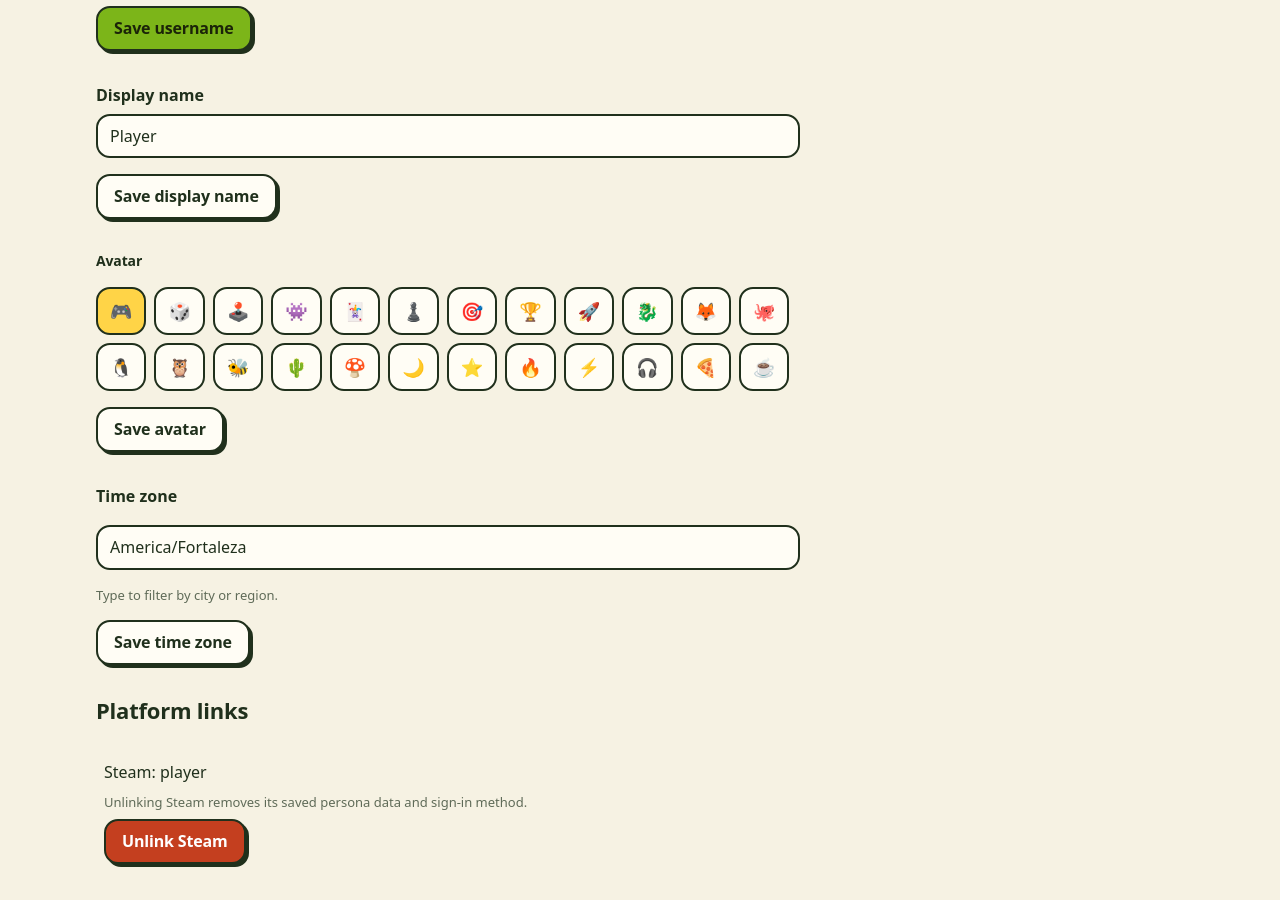
Scenario: ProfileSettingsPage › retries a Steam platform revoke with A-049 proof and renders the last-method API error_D137
The image size is (1280, 900).
(page scrolled)
Click the button "Unlink Steam": (175, 842) x1=104 y1=819 x2=246 y2=864
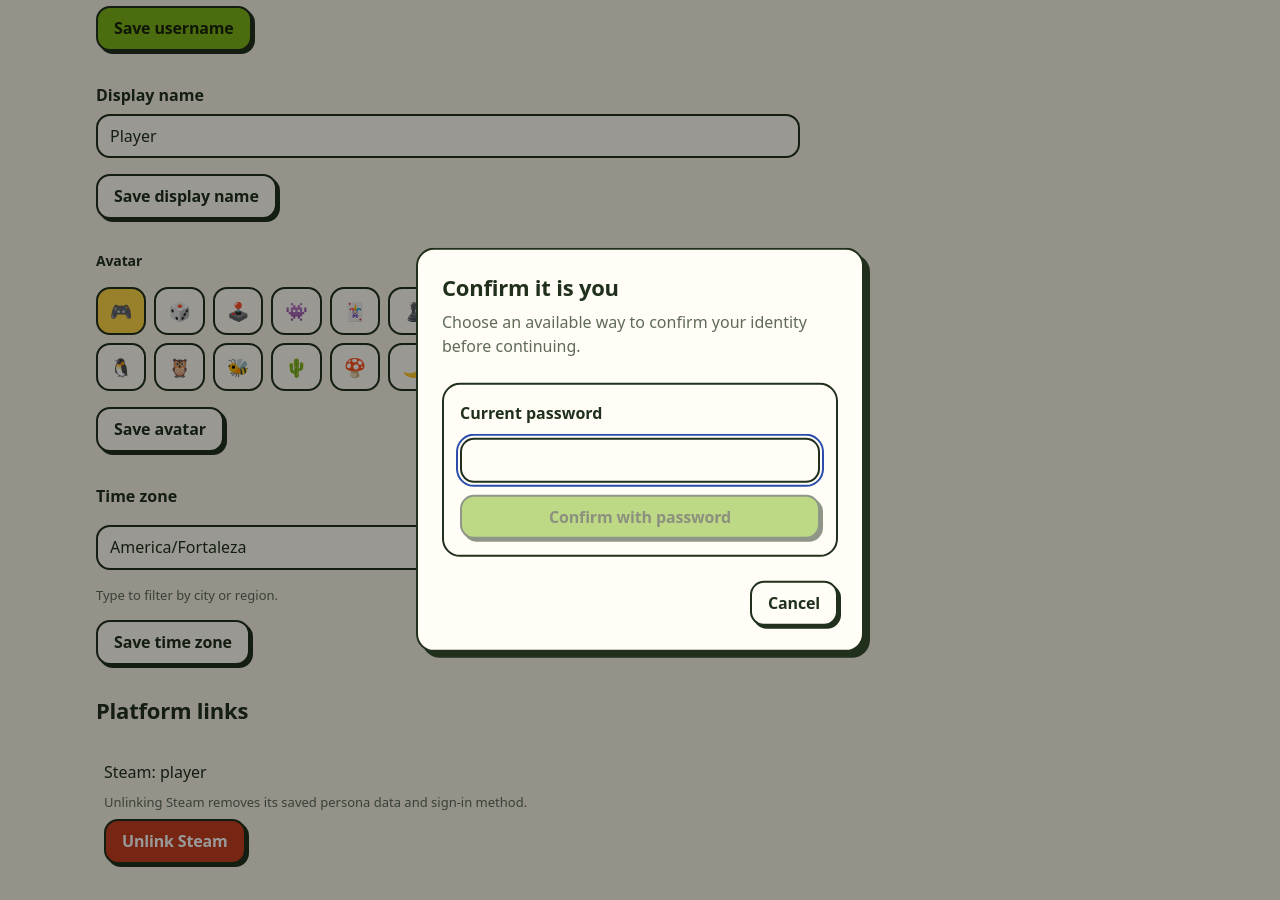
Result: the dialog is shown at x1=416 y1=248 x2=864 y2=652
In the password field labelled "Current password": (640, 460) x1=460 y1=438 x2=820 y2=483, type "correct-password"
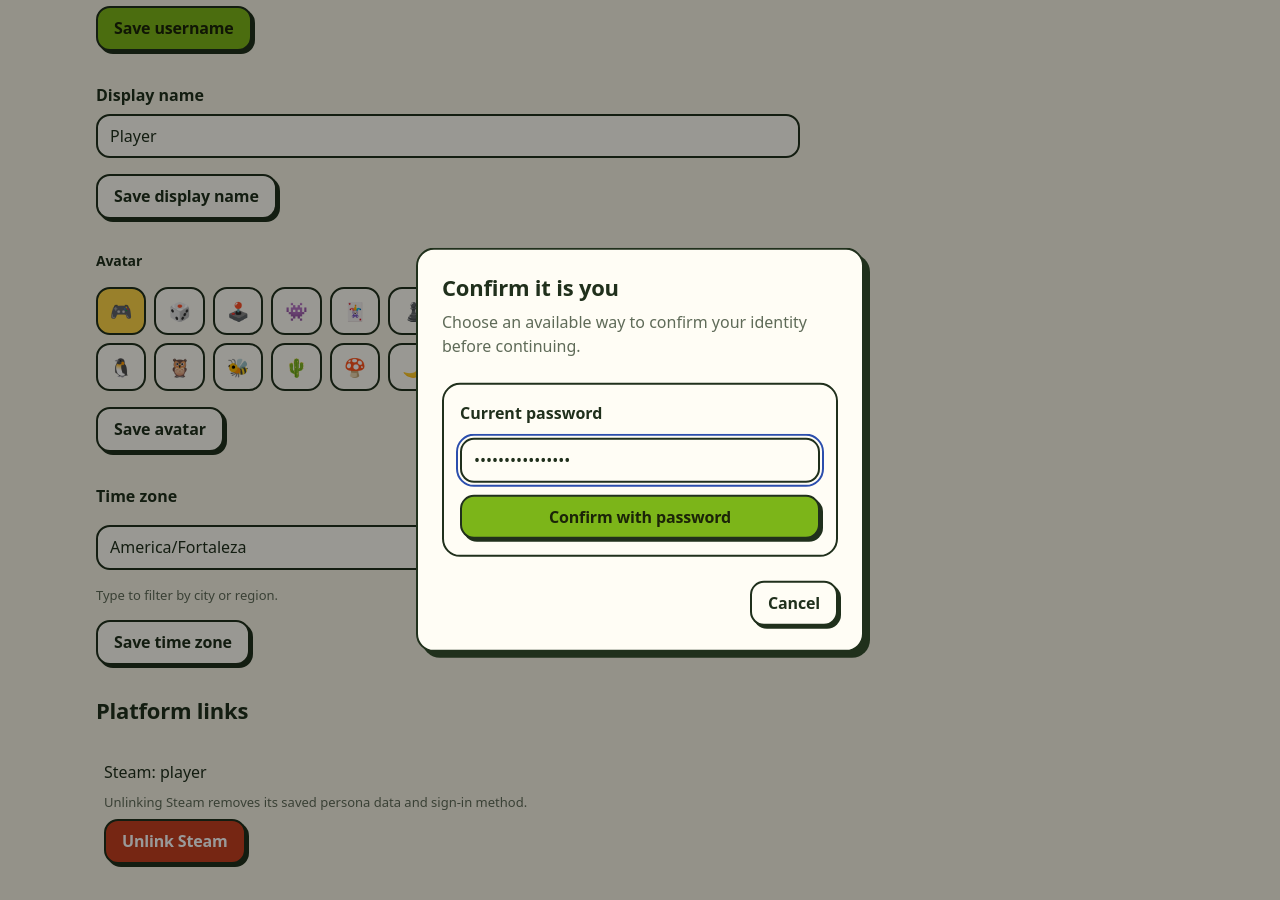
Click the button "Confirm with password": (640, 517) x1=460 y1=494 x2=820 y2=539
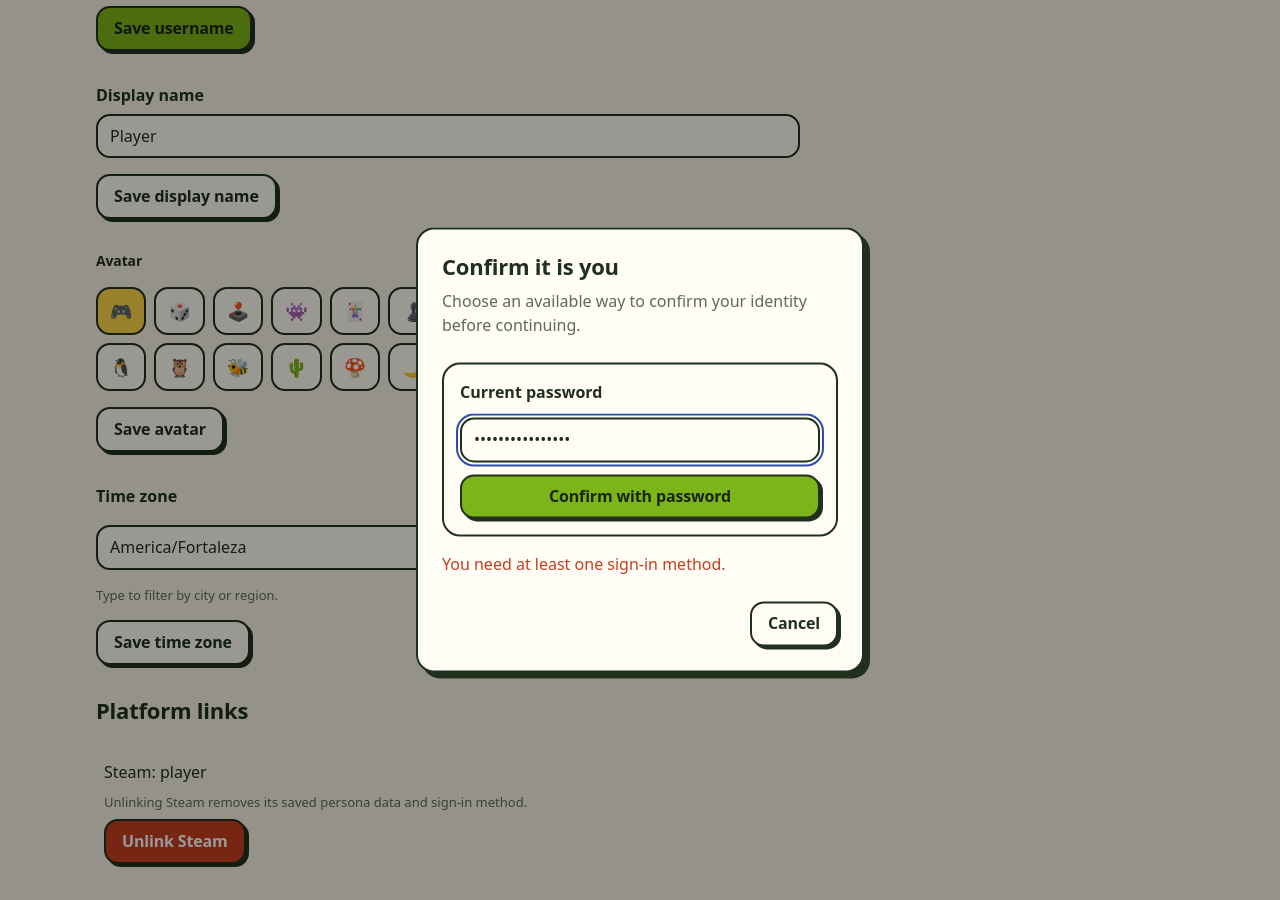
Result: the message reads "You need at least one sign-in method." at x1=442 y1=554 x2=726 y2=576
